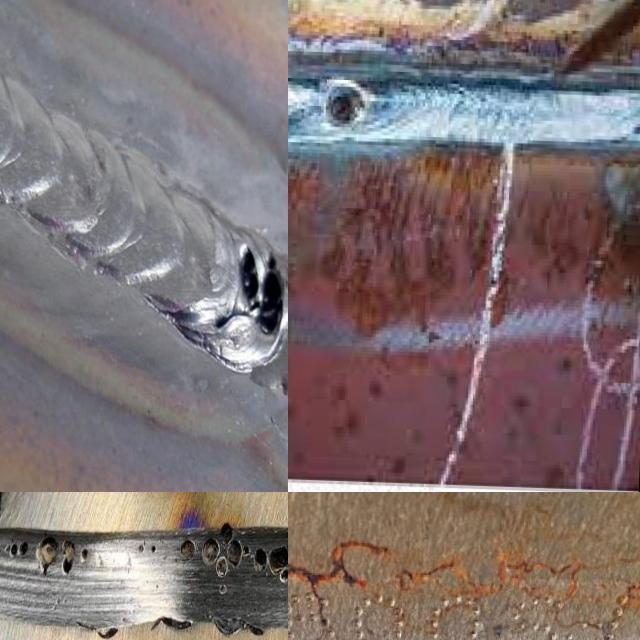defect: (199, 519, 288, 597), (233, 236, 288, 344), (318, 73, 369, 140), (34, 533, 93, 580), (4, 535, 31, 564), (174, 535, 196, 563), (149, 539, 158, 555), (137, 544, 145, 553)
